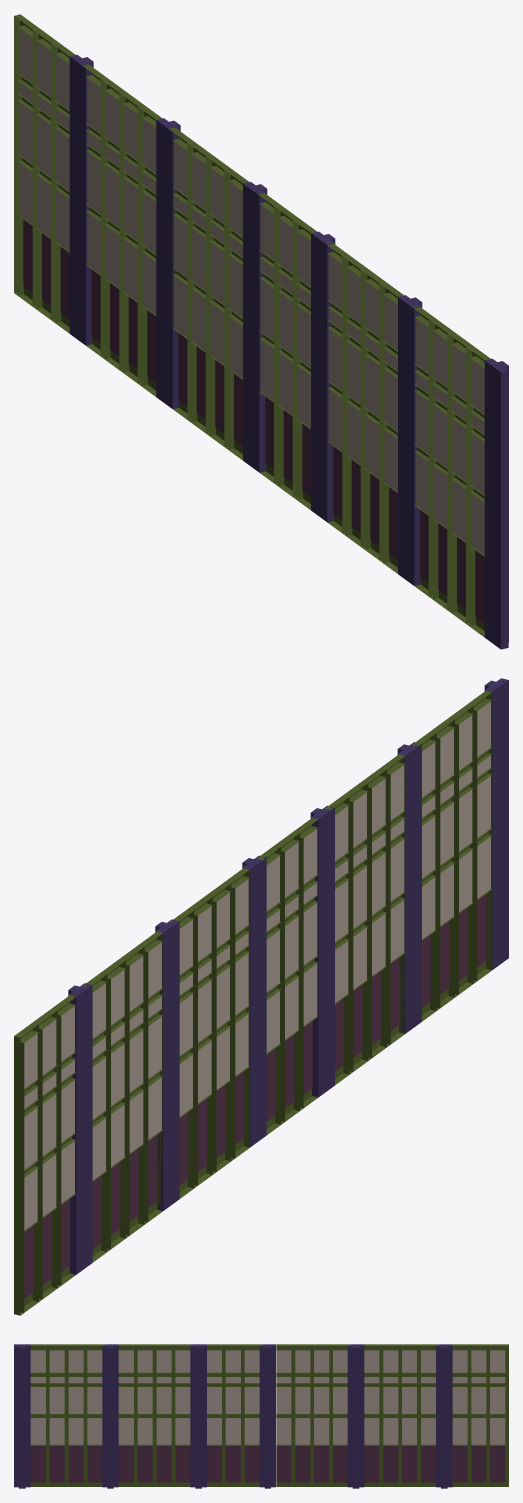
The model's file is left_wall_test.glb.
3 views of the same model, one above another, from view 1: azimuth 30°, elevation 25°; view 2: azimuth 150°, elevation 25°; view 3: azimuth 270°, elevation 25° (orthographic). The views are drawn at different scales.
Visible parts, largest first — view 1: LeftWall; view 2: LeftWall; view 3: LeftWall.
Part boxes in pixels (<box>): LeftWall: <box>14,14,508,649</box>; LeftWall: <box>14,678,508,1315</box>; LeftWall: <box>14,1344,508,1488</box>.
Size of the model in its own units: 0.1674 by 3.45 by 10.98.
